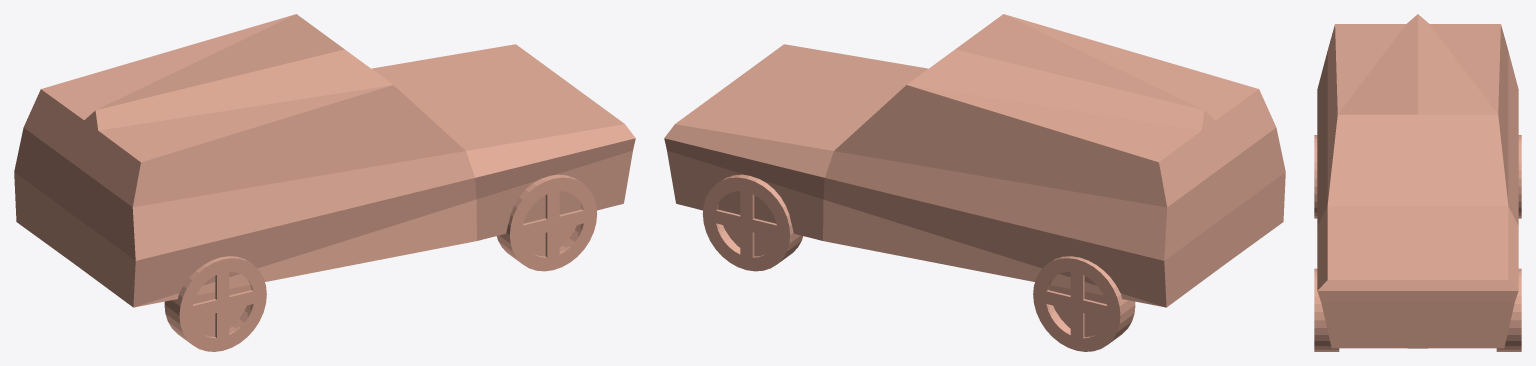
Rendered from TestCarV2.glb.
The picture shows the model from 3 angles, left to right: view 1: azimuth 30°, elevation 25°; view 2: azimuth 150°, elevation 25°; view 3: azimuth 270°, elevation 25°; orthographic projection. The views are drawn at different scales.
Visible parts, largest first — view 1: body, wheel_RR, wheel_FR; view 2: body, wheel_RL, wheel_FL; view 3: body, wheel_FL, wheel_FR, wheel_RL, wheel_RR.
Part boxes in pixels (x1=…): body: x1=14, y1=14, x2=635, y2=307; wheel_RR: x1=164, y1=256, x2=266, y2=351; wheel_FR: x1=496, y1=174, x2=597, y2=271; body: x1=664, y1=14, x2=1285, y2=307; wheel_RL: x1=1033, y1=256, x2=1135, y2=351; wheel_FL: x1=702, y1=174, x2=803, y2=271; body: x1=1317, y1=14, x2=1518, y2=348; wheel_FL: x1=1496, y1=268, x2=1521, y2=351; wheel_FR: x1=1314, y1=268, x2=1339, y2=351; wheel_RL: x1=1518, y1=135, x2=1521, y2=218; wheel_RR: x1=1314, y1=135, x2=1317, y2=218.
Bounding box in the file's own units: 3.82 × 1.54 × 1.65.
